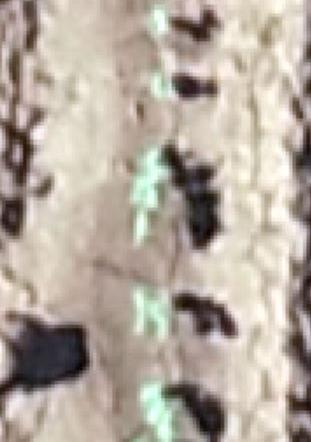cotton: (138, 288, 169, 336), (151, 407, 175, 442), (140, 383, 165, 410), (134, 205, 151, 240), (136, 181, 159, 206), (143, 156, 165, 181), (153, 76, 173, 101), (151, 9, 170, 32)
